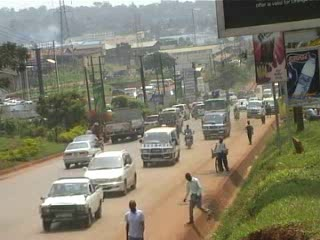Car: (81, 147, 140, 199), (58, 138, 102, 172), (71, 130, 107, 152), (142, 112, 161, 130), (236, 96, 249, 110), (193, 103, 205, 116), (228, 94, 237, 109)
Motorcycle: (180, 125, 195, 149), (232, 104, 242, 120)
